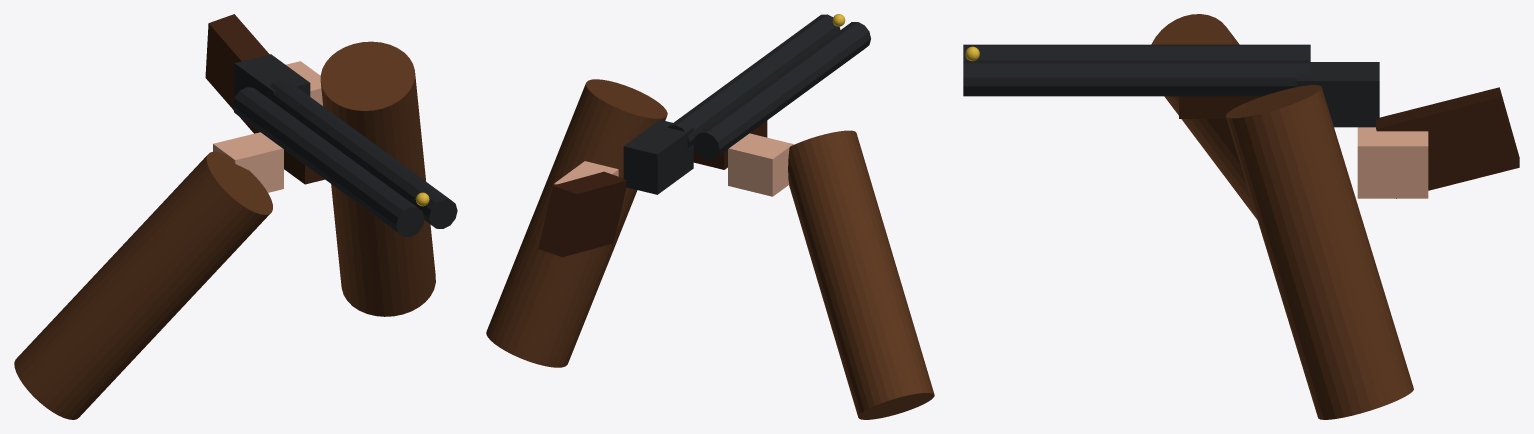
Rendered from fps_shotgun.obj.
3 views of the same model, side by side, from view 1: azimuth 30°, elevation 25°; view 2: azimuth 150°, elevation 25°; view 3: azimuth 270°, elevation 25° (orthographic). The views are drawn at different scales.
Parts seen in each view (by area): view 1: Cylinder.001, Cylinder, Cylinder.002, Cylinder.003, Cube.002, Cube.001, Cube.003, Cube.004, Cube; view 2: Cylinder.001, Cylinder, Cylinder.002, Cube.002, Cylinder.003, Cube.003, Cube.001, Cube, Cube.004; view 3: Cylinder, Cylinder.003, Cube.002, Cylinder.002, Cube, Cylinder.001, Cube.003, Cube.004.
Boxes of the visible parts, x1,y1,x2,y2 form: Cylinder.001: [14, 151, 272, 419]; Cylinder: [320, 41, 435, 316]; Cylinder.002: [232, 87, 424, 236]; Cylinder.003: [265, 79, 457, 228]; Cube.002: [205, 14, 269, 133]; Cube.001: [213, 132, 283, 192]; Cube.003: [234, 54, 310, 96]; Cube.004: [258, 131, 324, 184]; Cube: [286, 61, 322, 105]; Cylinder.001: [788, 130, 934, 419]; Cylinder: [486, 79, 667, 367]; Cylinder.002: [693, 22, 870, 160]; Cube.002: [538, 171, 626, 257]; Cylinder.003: [667, 14, 840, 147]; Cube.003: [623, 119, 693, 194]; Cube.001: [728, 133, 793, 196]; Cube: [554, 161, 618, 184]; Cube.004: [693, 120, 767, 169]; Cylinder: [1226, 85, 1413, 419]; Cylinder.003: [963, 61, 1310, 96]; Cube.002: [1376, 87, 1519, 198]; Cylinder.002: [963, 44, 1310, 61]; Cube: [1357, 127, 1428, 198]; Cylinder.001: [1151, 14, 1257, 219]; Cube.003: [1296, 62, 1379, 127]; Cube.004: [1179, 96, 1261, 118].
Bounding box in the file's own units: 0.5913 × 0.3693 × 0.6085.
